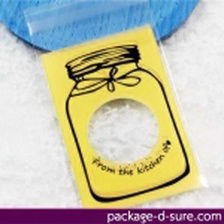snack: (16, 0, 213, 207)
